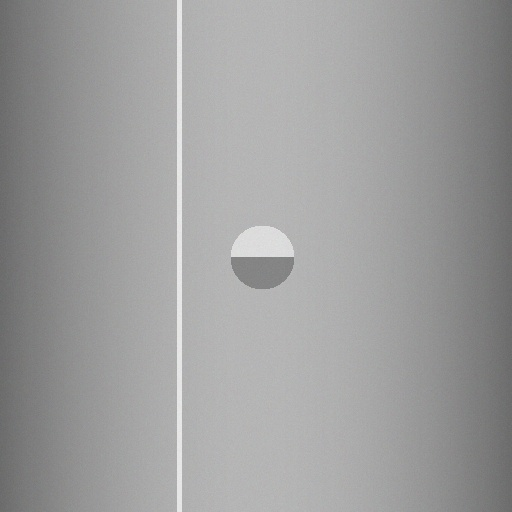deformation: (225, 220, 299, 294)
